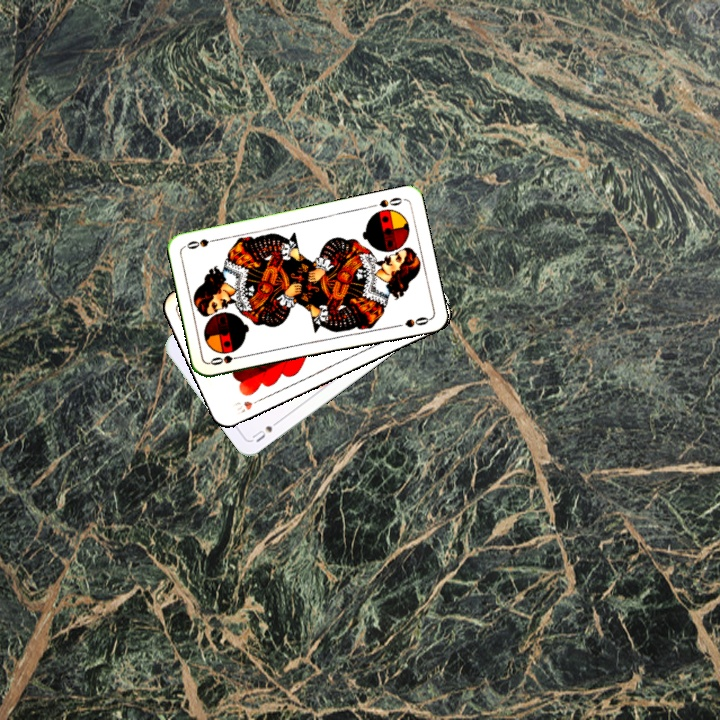H10: (229, 394, 265, 418)
SO: (206, 351, 247, 368), (375, 193, 404, 210)
SU: (248, 415, 284, 445)
